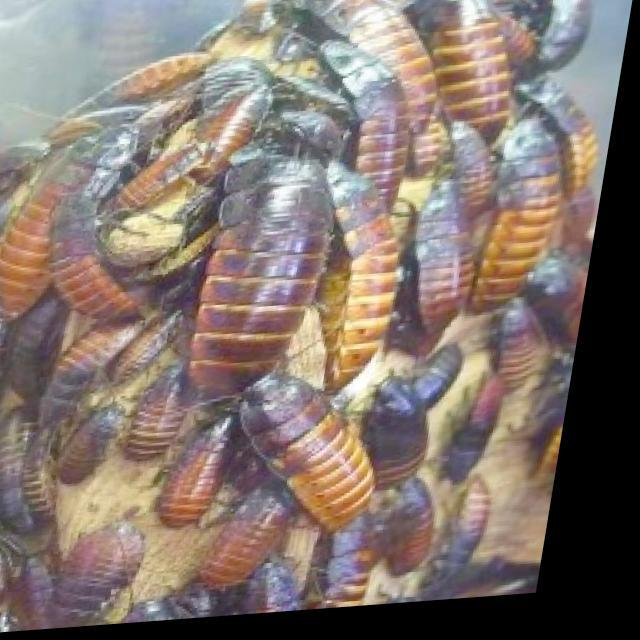cockroach: (193, 124, 327, 433), (242, 366, 386, 537), (492, 99, 571, 363), (30, 306, 158, 442), (332, 157, 400, 396), (60, 128, 132, 326), (342, 12, 412, 211), (46, 516, 172, 622), (202, 472, 303, 600), (160, 409, 247, 551), (434, 0, 513, 149), (326, 476, 406, 616), (407, 179, 471, 353), (108, 127, 219, 219), (372, 0, 447, 132), (442, 361, 510, 485), (111, 302, 195, 402), (132, 348, 203, 463), (362, 369, 436, 476), (226, 542, 312, 630), (61, 385, 124, 503), (7, 408, 64, 525), (447, 464, 501, 584), (380, 476, 442, 573)
